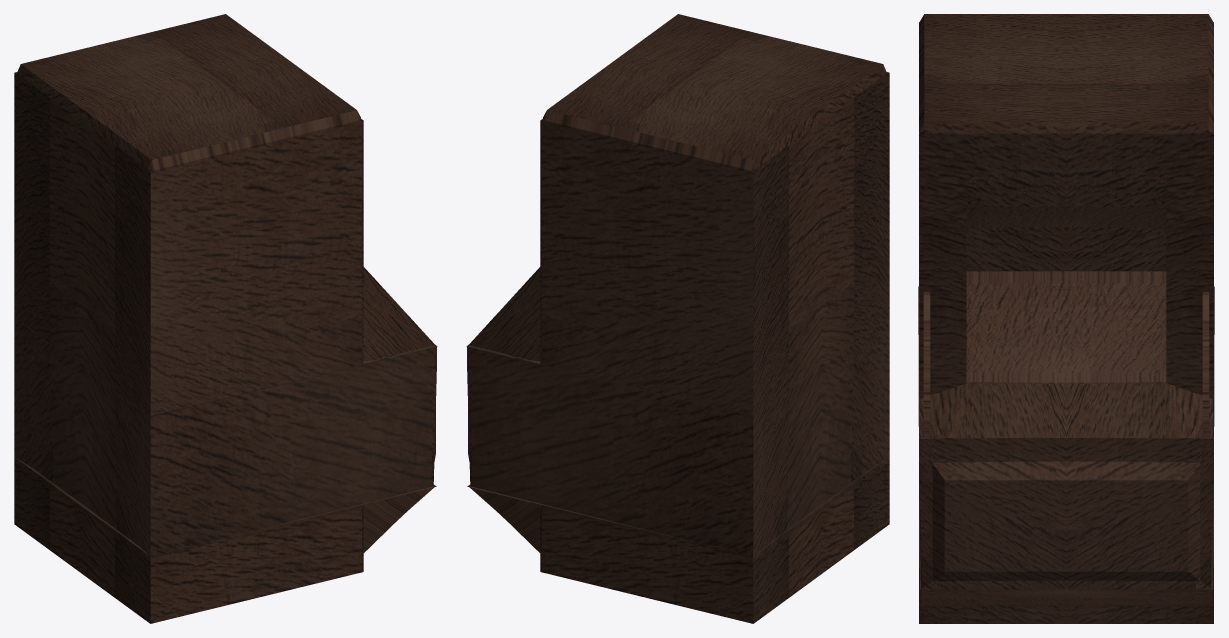
Rendered from Caçaniquel.glb.
The picture shows the model from 3 angles, left to right: view 1: azimuth 30°, elevation 25°; view 2: azimuth 150°, elevation 25°; view 3: azimuth 270°, elevation 25°; orthographic projection. The views are drawn at different scales.
Parts seen in each view (by area): view 1: Cube; view 2: Cube; view 3: Cube.
Part boxes in pixels (box(x1,y1,x2,y2)): Cube: box(14, 14, 437, 623); Cube: box(466, 14, 889, 623); Cube: box(918, 14, 1214, 623).
Size of the model in its own units: 6.85 by 10.14 by 5.45.
Materials: 1 (1 with a texture image).
